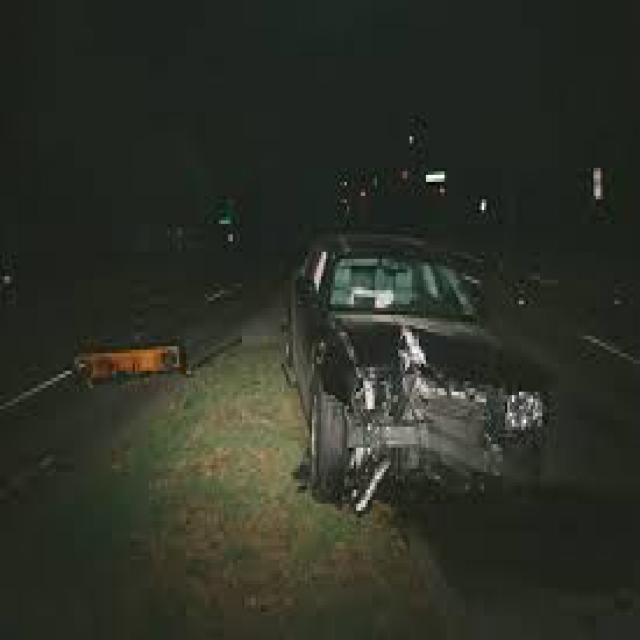accident: (284, 217, 563, 524)
